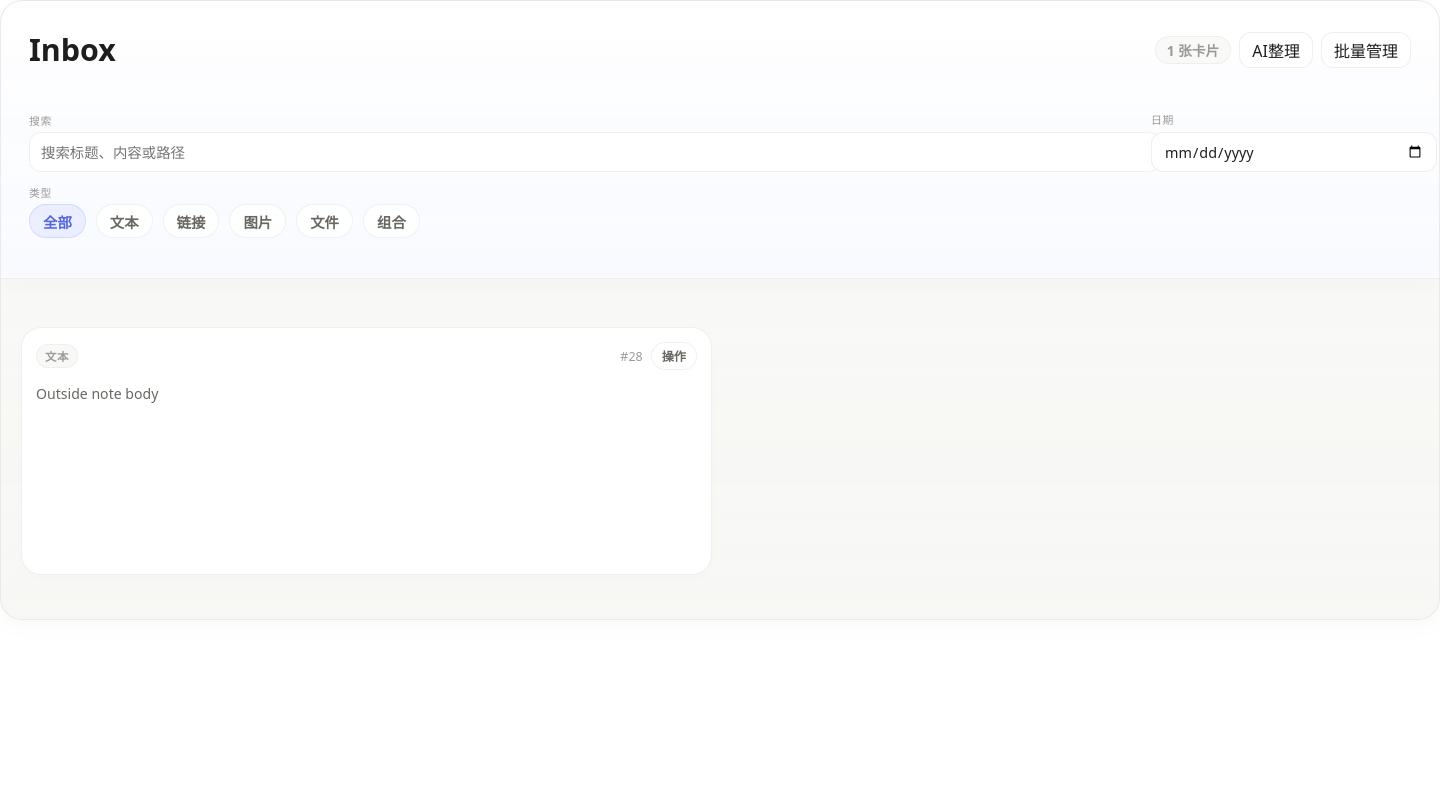
Test case: MainCanvas › closes an open card action menu when clicking outside it
Click the button with aria-label "操作 Outside note" at (674, 356), box [651,342,697,370]
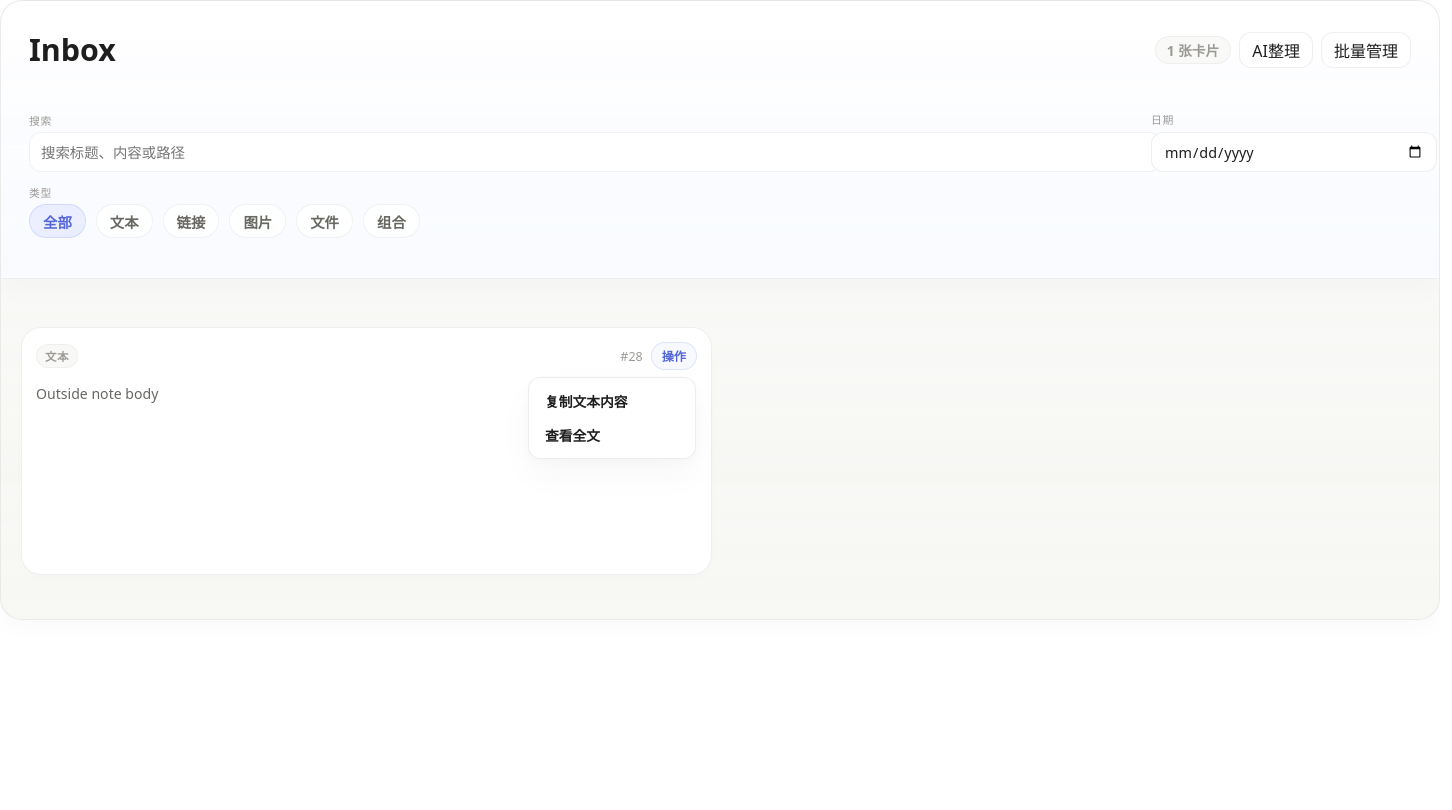
Now the menu named "Outside note 操作" is shown, box [528,377,696,459]
Press the mouse on the element that starts with "Inbox" at (720, 405), box [0,0,1440,809]
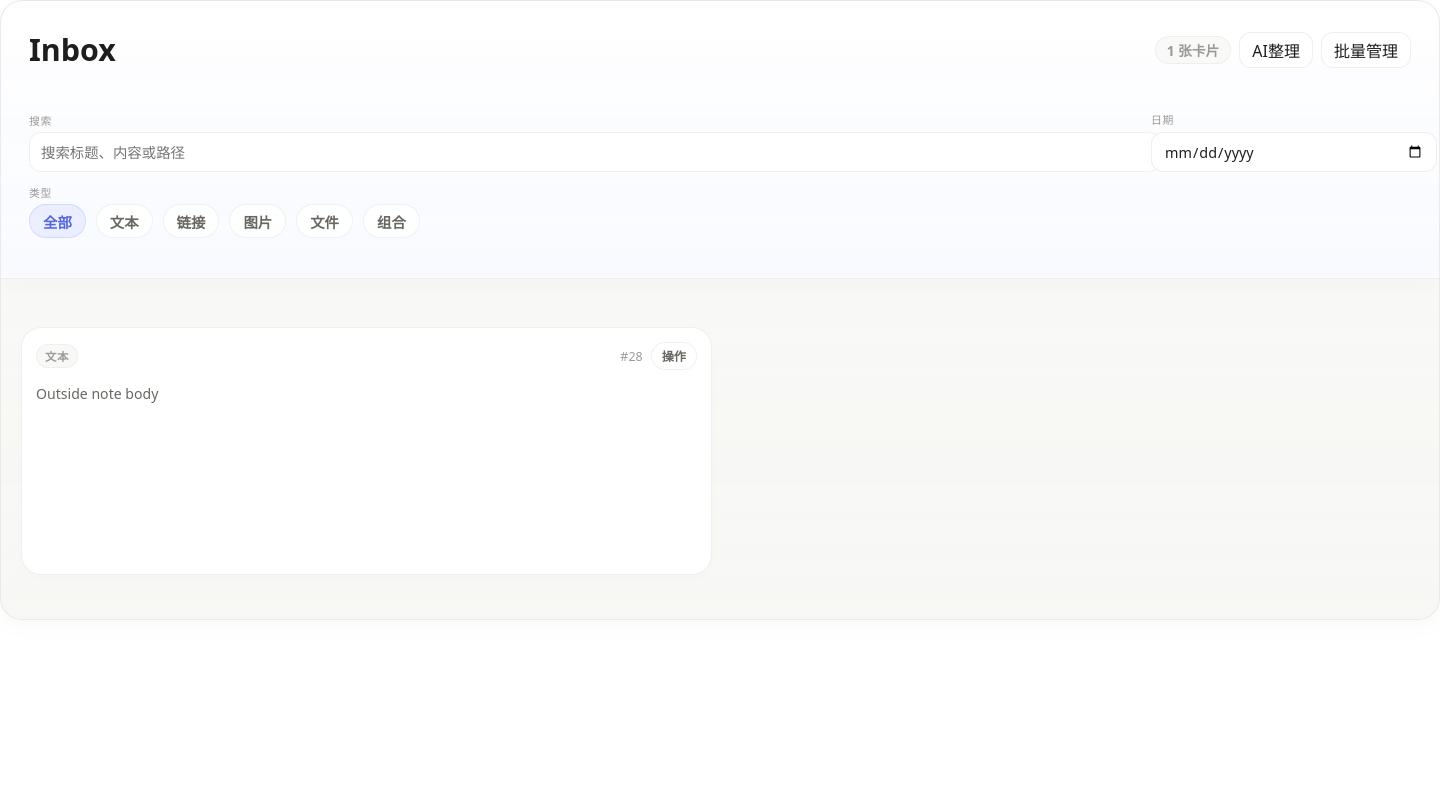
Now the button with aria-label "操作 Outside note" is collapsed, box [651,342,697,370]
